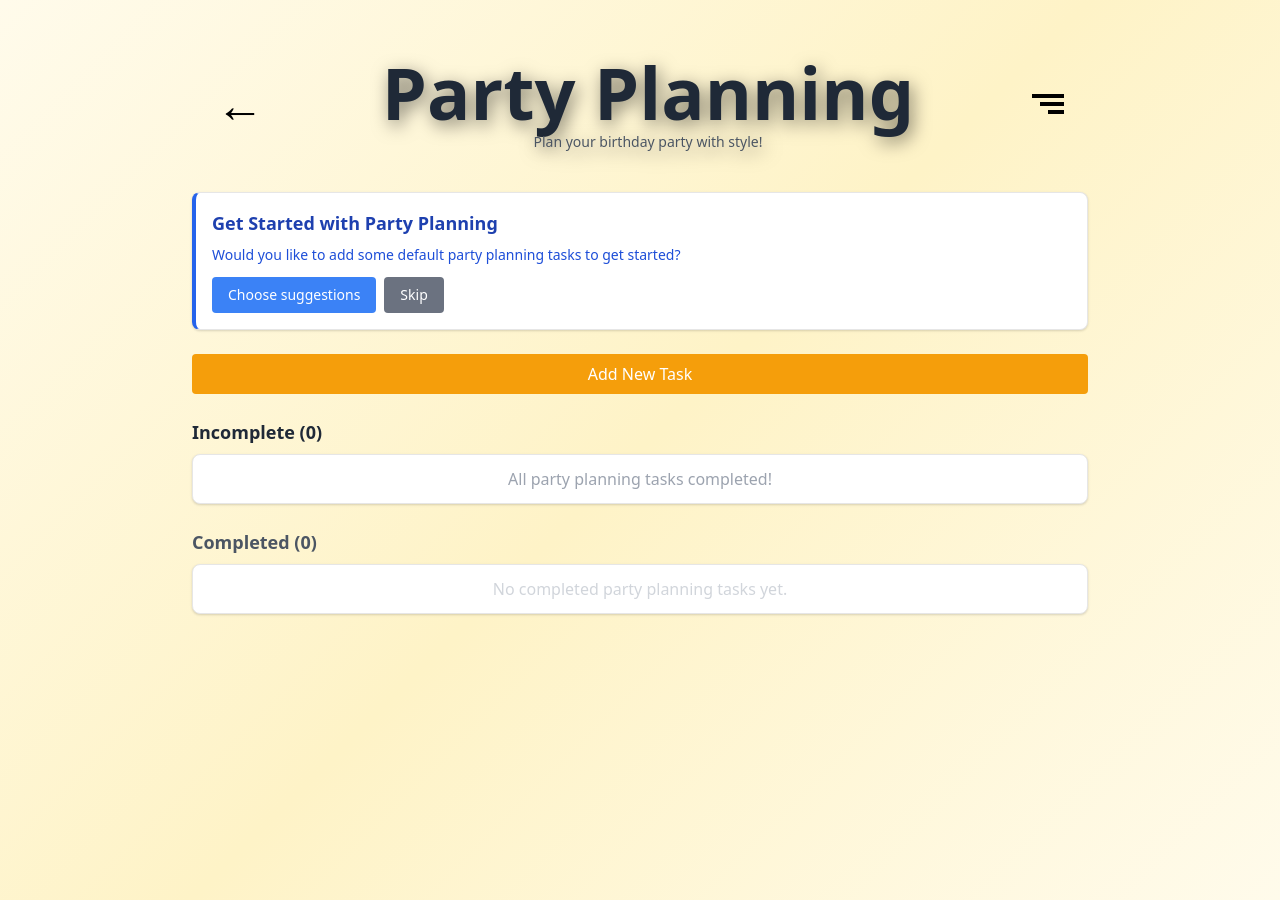
Birthday party planning suggestions › open a picker with every item ticked, and add them in the right category
Step 1. Click the button "Choose suggestions" → (294, 295), box [212, 277, 376, 313]
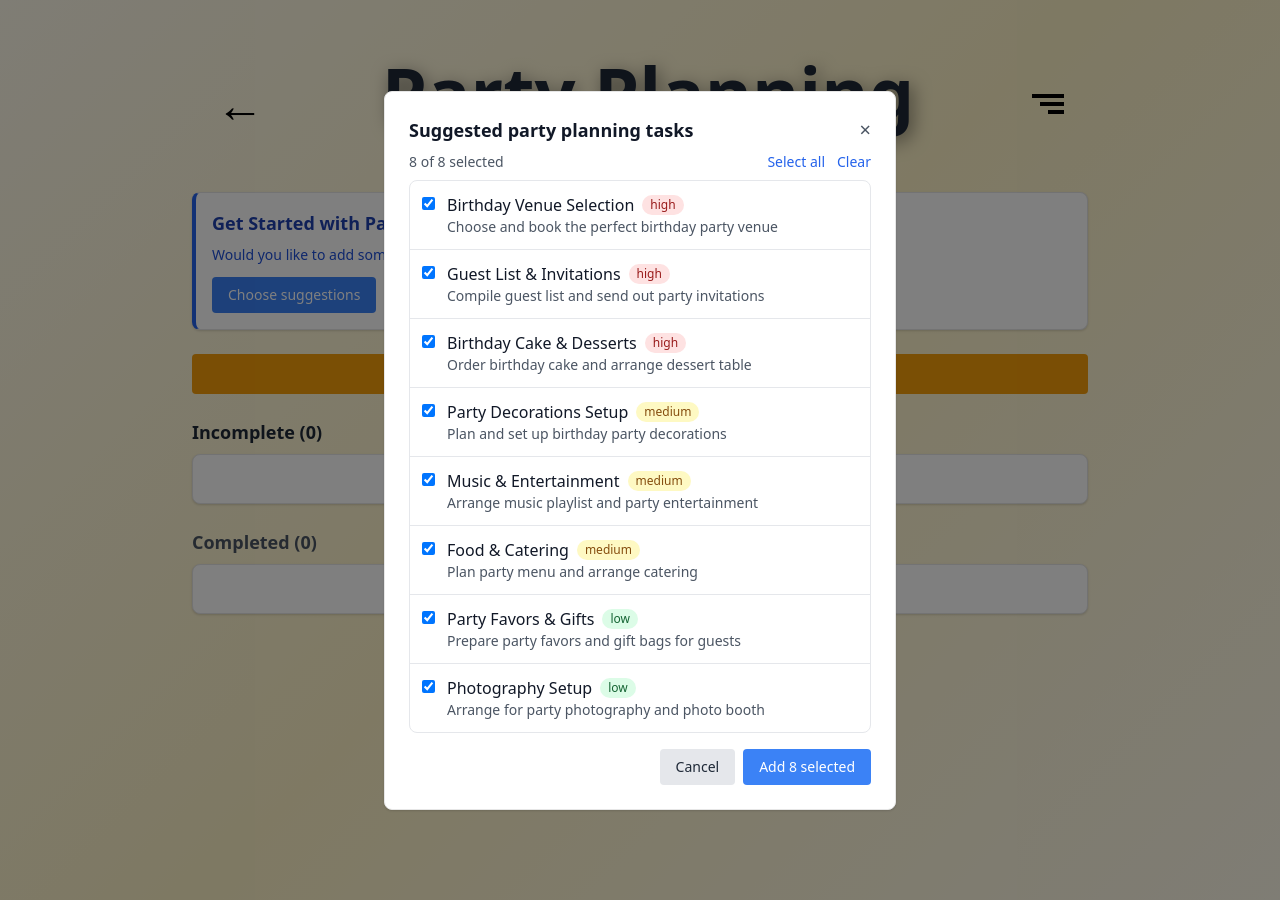
Step 2. Click the button "Add 8 selected" → (807, 766), box [743, 748, 871, 784]
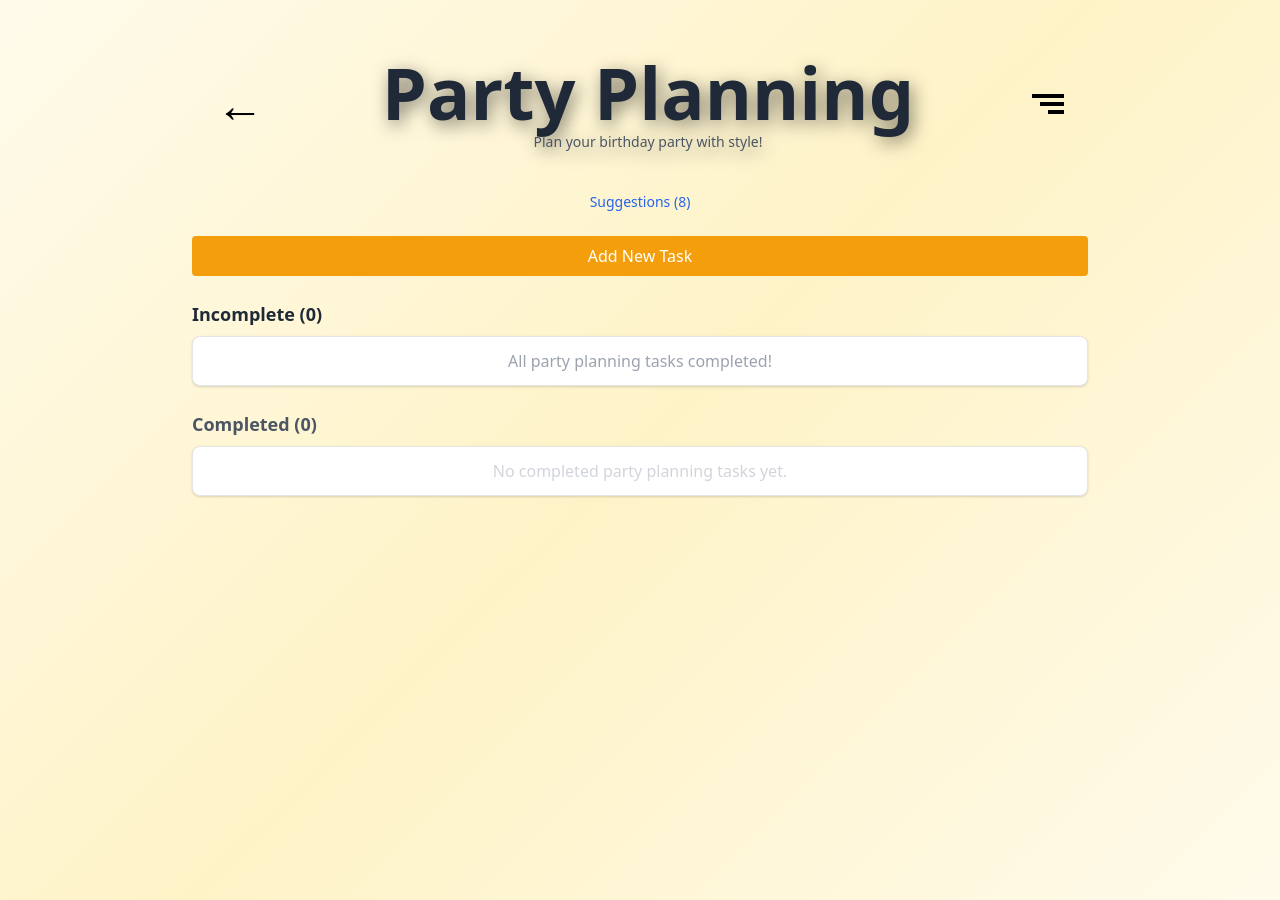
Expected: the heading "Party Planning" is shown, [382, 43, 914, 141]
Expected: the dialog is gone
Expected: the button "Choose suggestions" is gone
